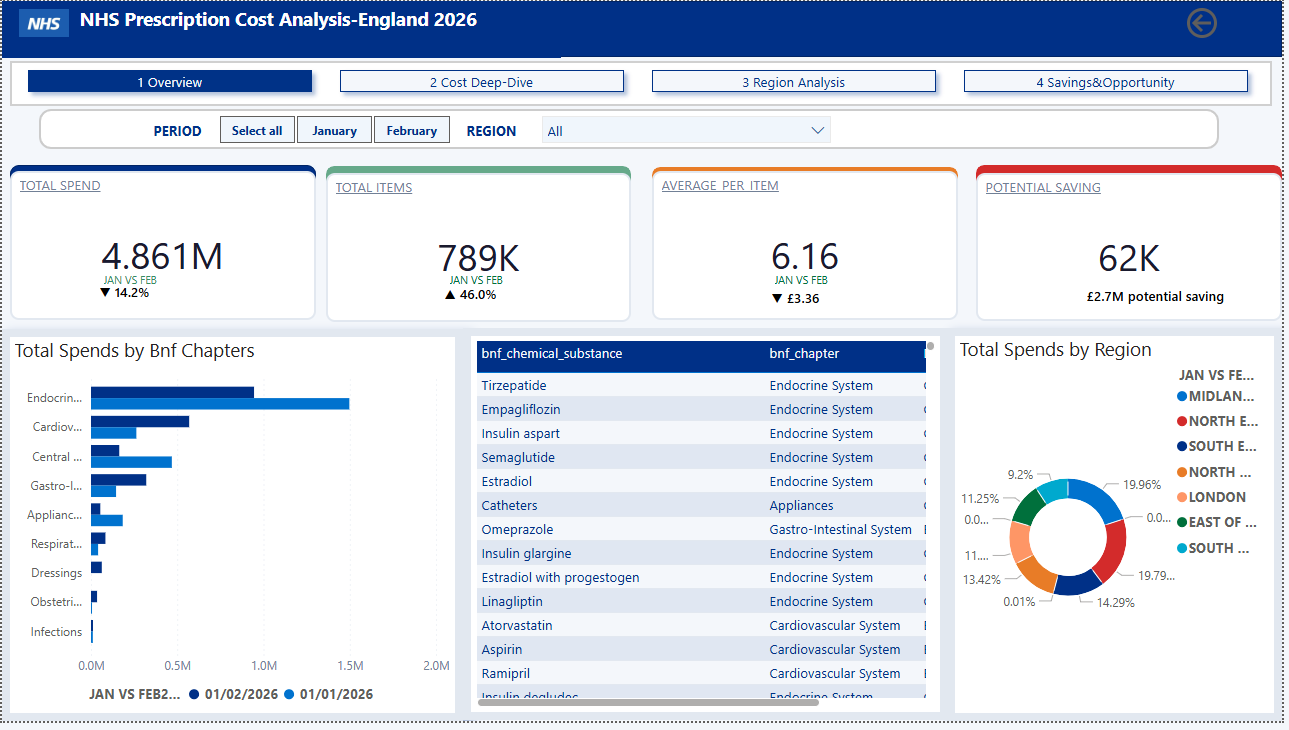

What the dashboard file says about the page in this screenshot:
{"tool":"powerbi","page":{"name":"1 Overview","canvas":[1280,720],"ordinal":0},"visuals":[{"type":"shape","title":"NHS Prescription Cost Analysis-England 2026","box":[0,0,1279.7,56.4],"z":0},{"type":"textbox","box":[0,0,559.2,56.7],"z":1000},{"type":"image","box":[17,6.5,50,30],"z":2000},{"type":"shape","box":[8.2,164.2,305.9,43.9],"z":3000},{"type":"card","title":"TOTAL SPEND","fields":{"Values":["Measures Table.total_spend"]},"box":[8,170,306,149],"z":4000},{"type":"textbox","box":[96.9,263.5,172.9,30.2],"z":5000},{"type":"shape","box":[324,164.6,305.2,28.1],"z":6000},{"type":"cardVisual","fields":{"Data":["Measures Table.MoM Change %"]},"box":[50,343.8,147.9,56.2],"z":7000},{"type":"card","title":"TOTAL ITEMS","fields":{"Values":["Measures Table.total_items"]},"box":[324,171.9,305.2,149],"z":8000},{"type":"cardVisual","fields":{"Data":["Measures Table.items_changes %"]},"box":[413.5,261.5,127.1,59.4],"z":9000},{"type":"shape","box":[650,165.5,305.5,42.5],"z":10000},{"type":"card","title":"AVERAGE_PER_ITEM","fields":{"Values":["Measures Table.avg_cost_per_item"]},"box":[650,170,306,149],"z":11000},{"type":"shape","box":[973.9,164.4,305.7,41.6],"z":12000},{"type":"card","title":"POTENTIAL SAVING","fields":{"Values":["Measures Table.potential_savings"]},"box":[974,172.1,305.8,148.1],"z":13000},{"type":"clusteredBarChart","title":"Total Spends by Bnf Chapters","fields":{"Category":["dim_drugs.bnf_chapter"],"Series":["dim_date.New_dates"],"Y":["Measures Table.total_spend"]},"box":[0,328.1,461.5,391.7],"z":14000},{"type":"donutChart","title":"Total Spends by Region","fields":{"Category":["dim_location.region_name"],"Y":["Sum(fact_table.nic)","Measures Table.feb_items"]},"box":[945.1,327,334.4,392.6],"z":15000},{"type":"tableEx","fields":{"Values":["dim_drugs.bnf_chemical_substance","dim_drugs.bnf_chapter","dim_drugs.Drug Type","Sum(fact_table.nic)"]},"box":[461.2,326.9,484.5,392.2],"z":16000},{"type":"shape","box":[8,60,1262,45],"z":17000},{"type":"textbox","box":[59.6,116.2,33.3,16.2],"z":20000},{"type":"textbox","box":[385.1,68,19.1,31.2],"z":23000},{"type":"shape","box":[37.3,108.2,1180,40],"z":30000},{"type":"slicer","fields":{"Values":["dim_date.months"]},"box":[191.6,108.4,280.3,40.3],"z":31000},{"type":"actionButton","box":[1180,2,100,40],"z":32000},{"type":"textbox","box":[146.8,116,84,47.9],"z":33000},{"type":"textbox","box":[460.3,115.5,108.4,33.1],"z":34000},{"type":"slicer","fields":{"Values":["dim_location.region_name"]},"box":[529.9,105.2,309.3,43.3],"z":35000},{"type":"cardVisual","fields":{"Data":["Measures Table.MoM Change %"]},"box":[68.8,259.4,126,60.4],"z":36000},{"type":"textbox","box":[767.7,263.5,100,30.2],"z":37000},{"type":"cardVisual","fields":{"Data":["Measures Table.Generic Saving Estimate"]},"box":[1056.2,263.5,202.1,59.4],"z":38000},{"type":"cardVisual","fields":{"Data":["Measures Table.Avg Cost Difference"]},"box":[740.6,267.7,202.1,55.2],"z":39000},{"type":"textbox","box":[442.7,263.5,158.3,46.9],"z":40000},{"type":"pageNavigator","box":[17,60,1241,40],"z":41001}]}

Visuals, with their boxes in screenshot pixels (x1, y1, x2, y2), scaled from the page's 1280x720 canvas onto the 1289x730 screenshot:
"NHS Prescription Cost Analysis-England 2026" shape: {"x1": 0, "y1": 0, "x2": 1288, "y2": 57}
textbox: {"x1": 0, "y1": 0, "x2": 563, "y2": 57}
image: {"x1": 17, "y1": 7, "x2": 67, "y2": 37}
shape: {"x1": 8, "y1": 166, "x2": 316, "y2": 211}
"TOTAL SPEND" card: {"x1": 8, "y1": 172, "x2": 316, "y2": 323}
textbox: {"x1": 98, "y1": 267, "x2": 272, "y2": 298}
shape: {"x1": 326, "y1": 167, "x2": 634, "y2": 195}
cardVisual - Measures Table.MoM Change %: {"x1": 50, "y1": 349, "x2": 199, "y2": 406}
"TOTAL ITEMS" card: {"x1": 326, "y1": 174, "x2": 634, "y2": 325}
cardVisual - Measures Table.items_changes %: {"x1": 416, "y1": 265, "x2": 544, "y2": 325}
shape: {"x1": 655, "y1": 168, "x2": 962, "y2": 211}
"AVERAGE_PER_ITEM" card: {"x1": 655, "y1": 172, "x2": 963, "y2": 323}
shape: {"x1": 981, "y1": 167, "x2": 1288, "y2": 209}
"POTENTIAL SAVING" card: {"x1": 981, "y1": 174, "x2": 1288, "y2": 325}
"Total Spends by Bnf Chapters" clusteredBarChart: {"x1": 0, "y1": 333, "x2": 465, "y2": 729}
"Total Spends by Region" donutChart: {"x1": 952, "y1": 332, "x2": 1288, "y2": 729}
tableEx - dim_drugs.bnf_chemical_substance x dim_drugs.bnf_chapter: {"x1": 464, "y1": 331, "x2": 952, "y2": 729}
shape: {"x1": 8, "y1": 61, "x2": 1279, "y2": 106}
textbox: {"x1": 60, "y1": 118, "x2": 94, "y2": 134}
textbox: {"x1": 388, "y1": 69, "x2": 407, "y2": 101}
shape: {"x1": 38, "y1": 110, "x2": 1226, "y2": 150}
slicer - dim_date.months: {"x1": 193, "y1": 110, "x2": 475, "y2": 151}
actionButton: {"x1": 1188, "y1": 2, "x2": 1288, "y2": 43}
textbox: {"x1": 148, "y1": 118, "x2": 232, "y2": 166}
textbox: {"x1": 464, "y1": 117, "x2": 573, "y2": 151}
slicer - dim_location.region_name: {"x1": 534, "y1": 107, "x2": 845, "y2": 151}
cardVisual - Measures Table.MoM Change %: {"x1": 69, "y1": 263, "x2": 196, "y2": 324}
textbox: {"x1": 773, "y1": 267, "x2": 874, "y2": 298}
cardVisual - Measures Table.Generic Saving Estimate: {"x1": 1064, "y1": 267, "x2": 1267, "y2": 327}
cardVisual - Measures Table.Avg Cost Difference: {"x1": 746, "y1": 271, "x2": 949, "y2": 327}
textbox: {"x1": 446, "y1": 267, "x2": 605, "y2": 315}
pageNavigator: {"x1": 17, "y1": 61, "x2": 1267, "y2": 101}
